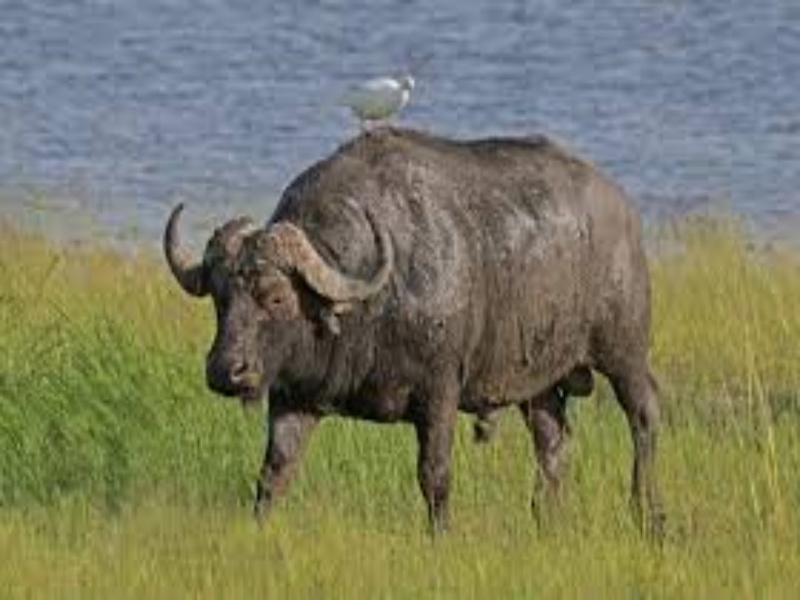buffalo: (160, 137, 717, 553)
